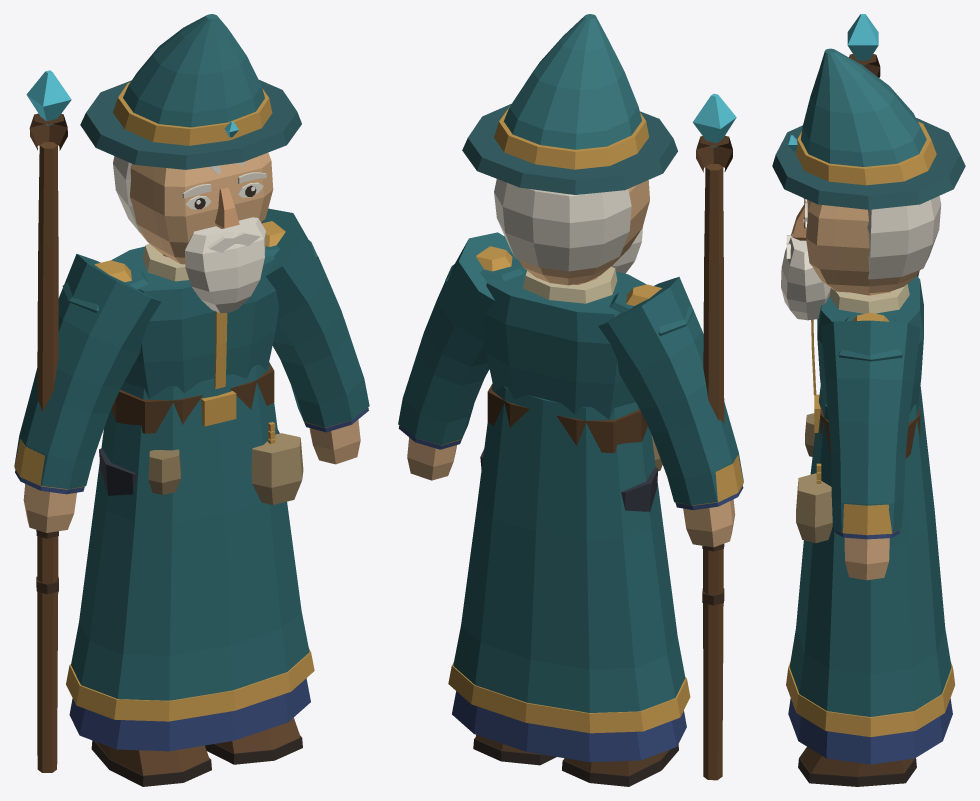
The model's file is mage-rare.obj.
3 renders of one model, left to right at view 1: azimuth 30°, elevation 25°; view 2: azimuth 150°, elevation 25°; view 3: azimuth 270°, elevation 25°, orthographic. The views are drawn at different scales.
Visible parts, largest first — view 1: etek, kollar, govde, sapka, asa, kafa, sapka-kenari, etek-kaplamasi, etek-kenari, sakal, cizmeler, eller (+16 smaller); view 2: etek, kollar, govde, sapka, sac, asa, sapka-kenari, etek-kaplamasi, etek-kenari, sapka-bandi, eller, kemer (+10 smaller); view 3: etek, kollar, sapka, sapka-kenari, kafa, sac, etek-kaplamasi, etek-kenari, sapka-bandi, sakal, govde, kese (+8 smaller).
Part boxes in pixels (x1=…): etek: x1=71, y1=363, x2=309, y2=700; kollar: x1=14, y1=208, x2=369, y2=489; govde: x1=111, y1=246, x2=278, y2=398; sapka: x1=123, y1=14, x2=264, y2=127; asa: x1=37, y1=142, x2=58, y2=772; kafa: x1=130, y1=152, x2=273, y2=264; sapka-kenari: x1=80, y1=80, x2=301, y2=169; etek-kaplamasi: x1=69, y1=678, x2=310, y2=751; etek-kenari: x1=66, y1=647, x2=314, y2=721; sakal: x1=185, y1=217, x2=265, y2=313; cizmeler: x1=96, y1=717, x2=300, y2=775; eller: x1=23, y1=419, x2=360, y2=532; etek: x1=453, y1=384, x2=685, y2=712; kollar: x1=398, y1=232, x2=743, y2=505; govde: x1=482, y1=270, x2=645, y2=419; sapka: x1=503, y1=14, x2=641, y2=149; sac: x1=494, y1=179, x2=631, y2=271; asa: x1=703, y1=164, x2=724, y2=780; sapka-kenari: x1=462, y1=104, x2=677, y2=194; etek-kaplamasi: x1=452, y1=691, x2=686, y2=762; etek-kenari: x1=448, y1=662, x2=690, y2=733; sapka-bandi: x1=494, y1=106, x2=648, y2=169; eller: x1=407, y1=437, x2=735, y2=547; kemer: x1=487, y1=383, x2=647, y2=453; etek: x1=789, y1=386, x2=951, y2=716; kollar: x1=821, y1=272, x2=920, y2=532; sapka: x1=800, y1=48, x2=926, y2=166; sapka-kenari: x1=772, y1=118, x2=965, y2=209; kafa: x1=806, y1=199, x2=919, y2=293; sac: x1=867, y1=196, x2=941, y2=279; etek-kaplamasi: x1=788, y1=698, x2=952, y2=764; etek-kenari: x1=786, y1=661, x2=955, y2=737; sapka-bandi: x1=796, y1=121, x2=936, y2=185; sakal: x1=781, y1=232, x2=830, y2=320; govde: x1=817, y1=276, x2=923, y2=412; kese: x1=796, y1=473, x2=832, y2=543.
Bounding box in the file's own units: 22.69 × 46.8 × 11.8.
